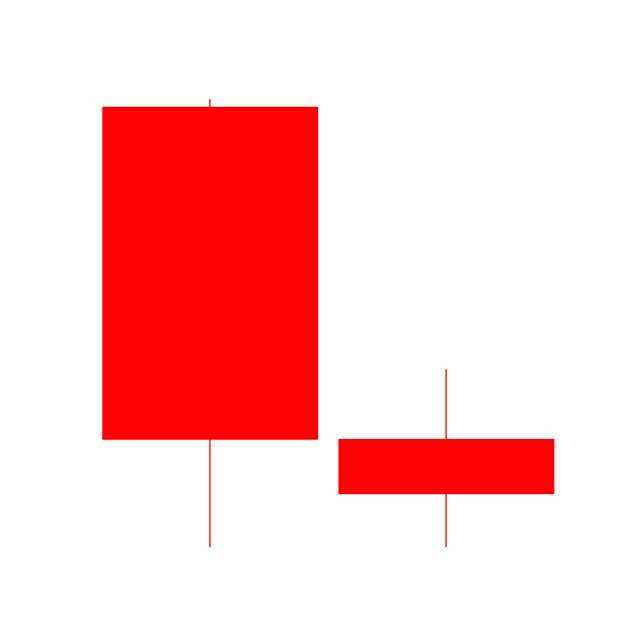Spinning Top: (327, 367, 565, 549)
